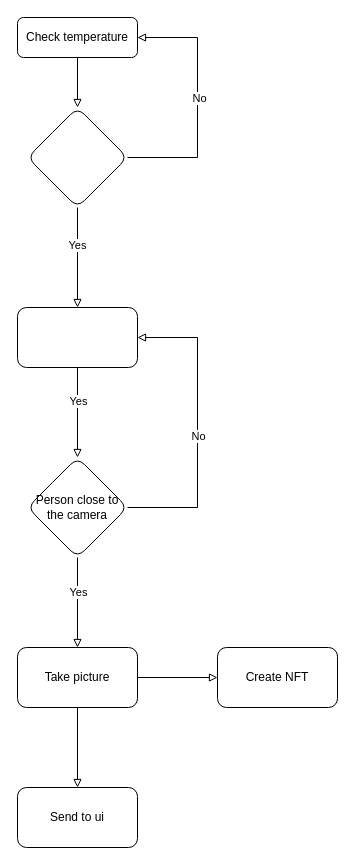
Image size: 355x865. Some labels were removed from this diagram. The centre of each missing label's shape, as x and y in pixels:
Gather data more frequently: [77,337]
Person in the room: [77,157]
